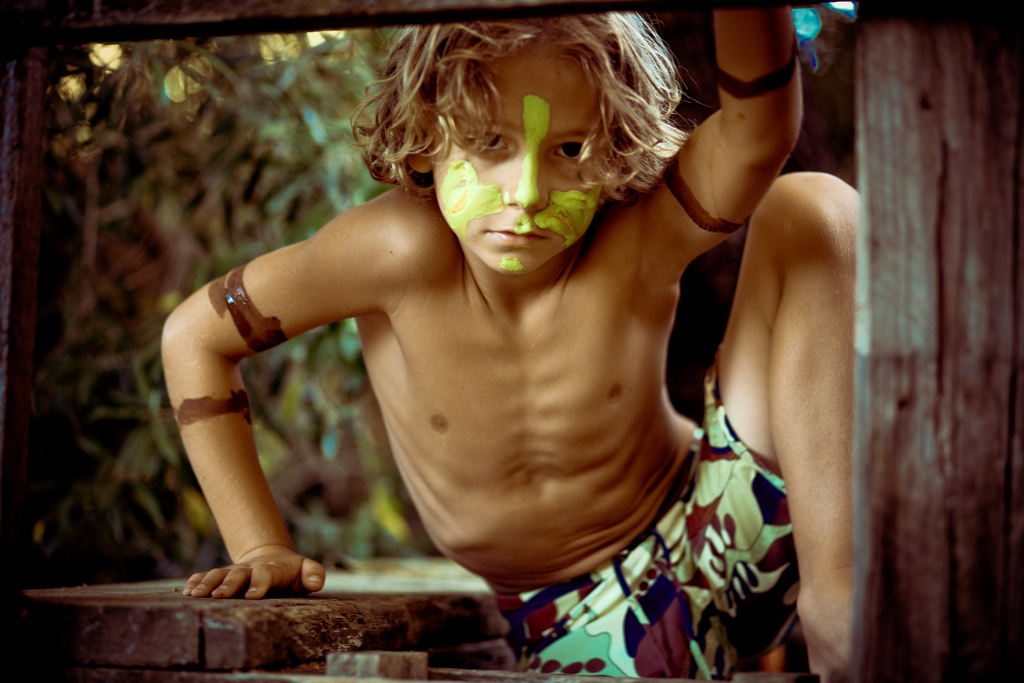Human-face: (428, 42, 625, 277)
